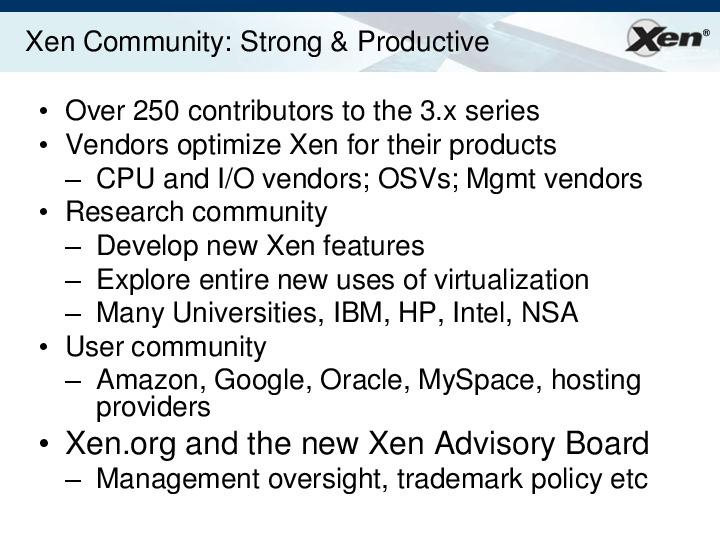paragraph: (31, 84, 691, 511)
title: (18, 21, 504, 71)
